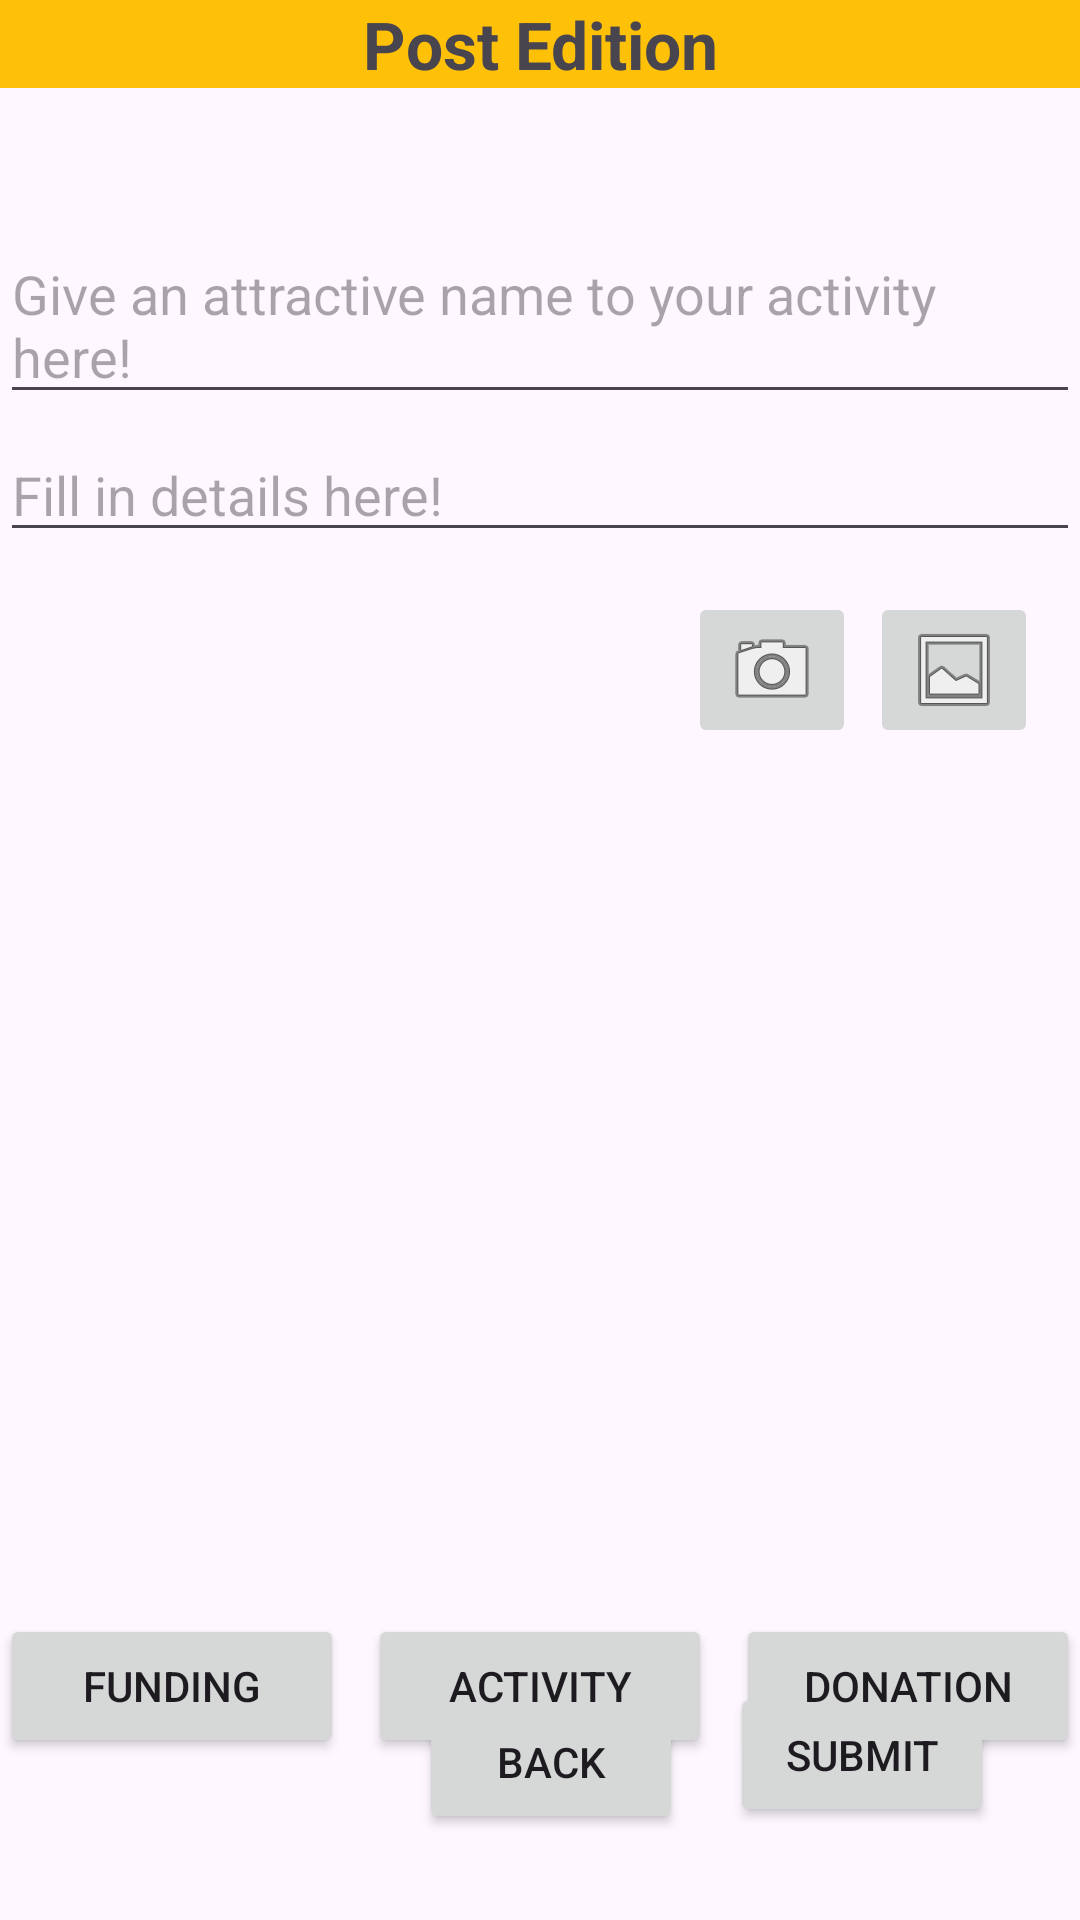

Named icons in this screenshot (1080px x 1920px) and their centers, point (x, y):
camera: point (772, 670)
gallery: point (954, 670)
